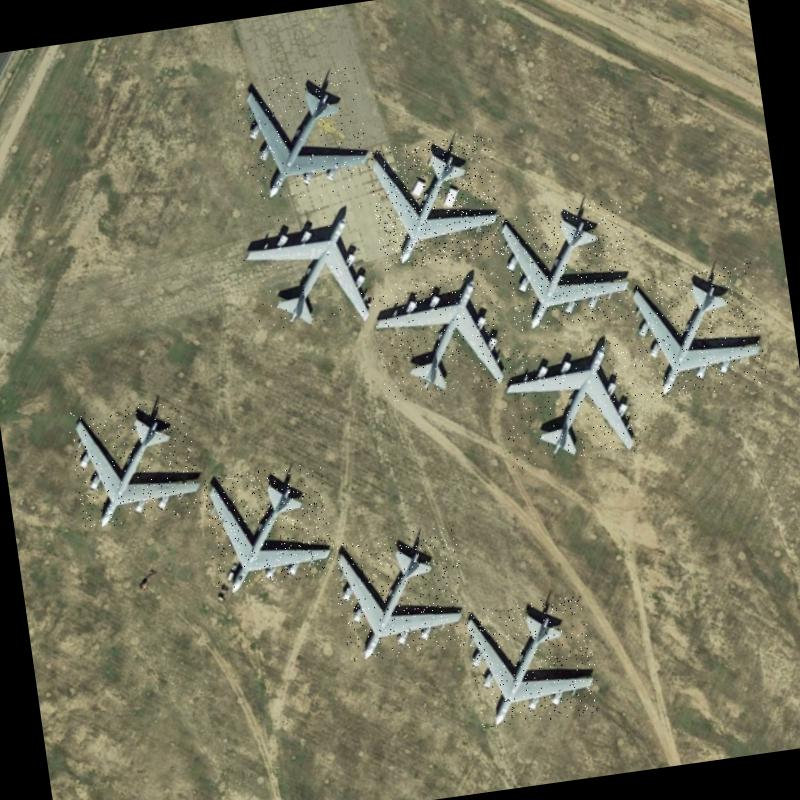A8: (494, 327, 650, 469), (232, 65, 374, 205), (628, 262, 770, 400), (329, 525, 471, 663), (366, 132, 506, 271), (370, 266, 512, 402), (464, 593, 602, 729), (499, 198, 636, 334), (236, 202, 377, 334), (66, 396, 202, 530), (201, 462, 336, 590)
